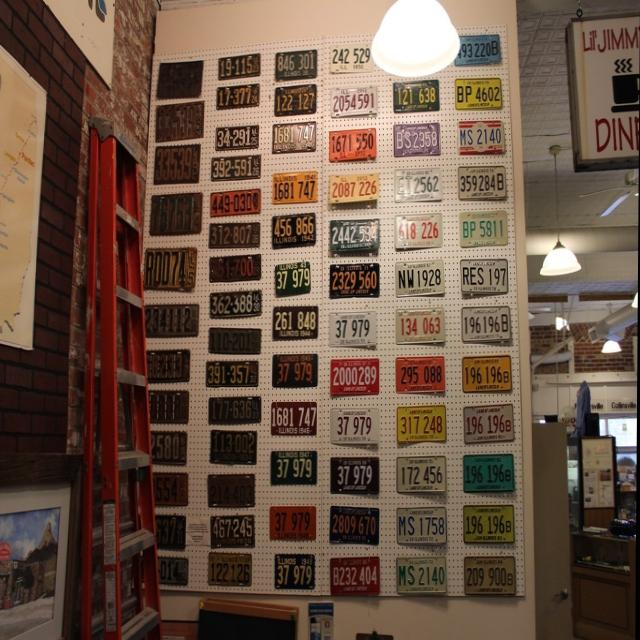Plaque: (211, 392, 264, 430), (329, 258, 379, 298), (209, 186, 265, 221), (329, 171, 378, 211), (206, 254, 263, 288), (329, 357, 381, 394), (326, 130, 379, 166), (327, 85, 380, 120), (274, 80, 318, 122), (274, 306, 324, 342), (270, 400, 320, 436), (329, 218, 376, 256), (271, 445, 316, 484), (206, 359, 259, 392), (275, 47, 321, 85), (208, 295, 264, 326), (271, 212, 316, 250), (272, 120, 317, 158), (461, 310, 511, 344), (452, 79, 505, 111), (330, 40, 373, 79), (210, 152, 262, 184), (459, 168, 507, 202), (273, 172, 318, 208), (462, 259, 507, 295), (334, 413, 379, 447), (458, 124, 504, 156), (273, 265, 315, 299), (215, 125, 264, 154), (206, 224, 264, 248), (216, 81, 261, 111), (219, 57, 262, 80)
